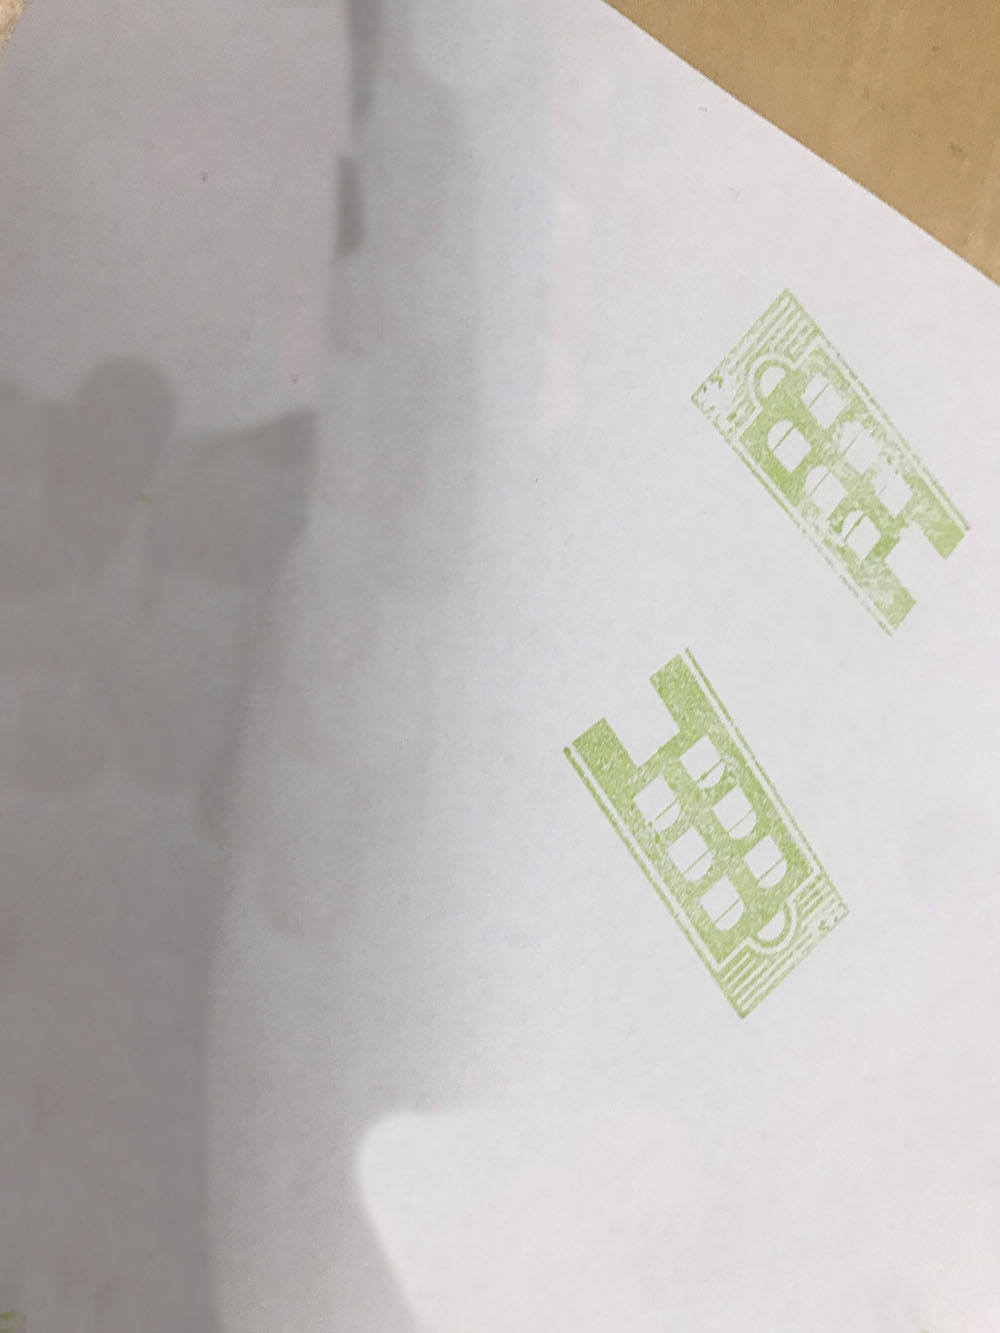build: (524, 619, 893, 1054), (654, 254, 978, 646)
